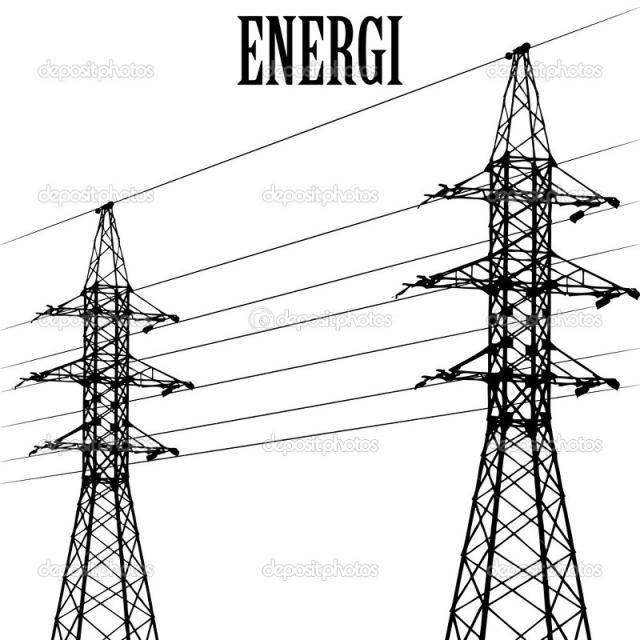non-critical vegetation: (426, 58, 618, 637), (35, 193, 171, 588)
